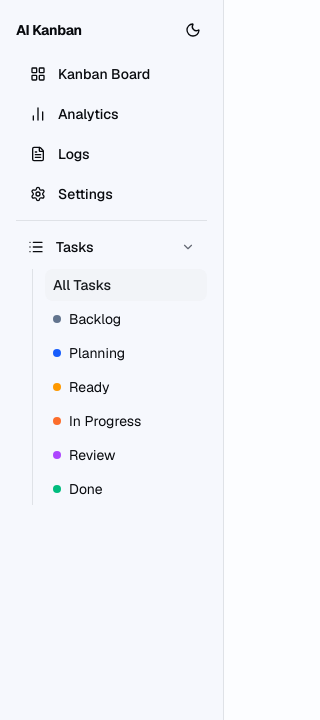
Scenario: Sidebar › collapses task stage list when Tasks button is clicked
The image size is (320, 720).
expect the link "All Tasks" is shown: met, box [45,269,207,301]
Note: Click to collapse — sidebar uses inert+CSS grid, link stays in DOM but button reflects collapsed state
Click the button "Tasks". click: x=112, y=247
box: [16,229,207,265]
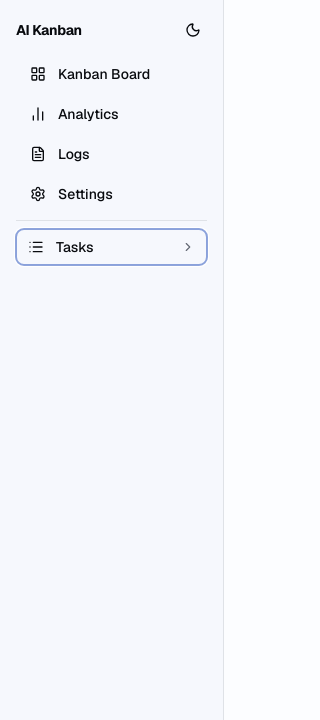
expect the button "Tasks" is collapsed: met, box [16,229,207,265]
